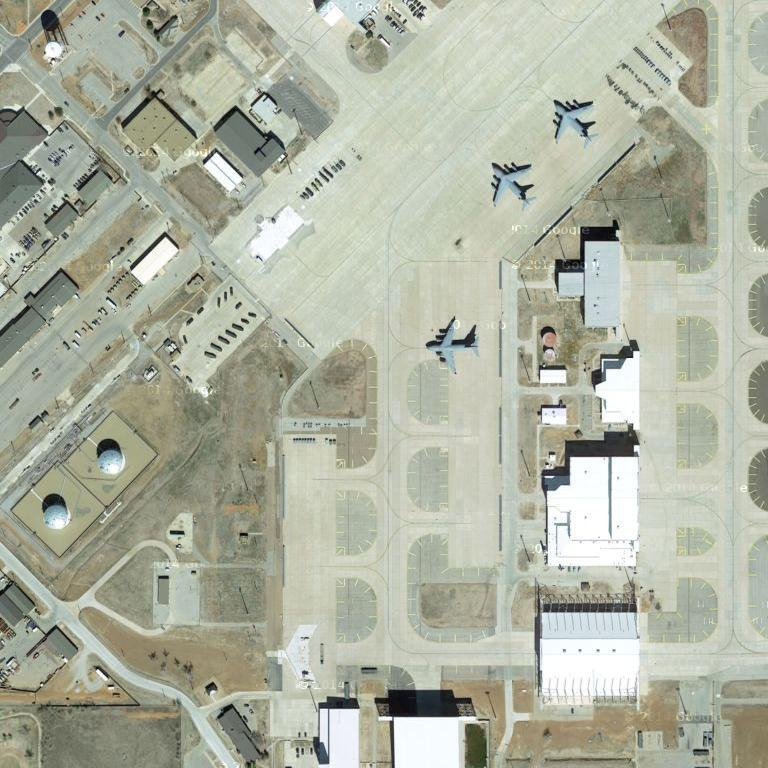C-17: (421, 315, 485, 376), (487, 158, 543, 213), (548, 98, 603, 147)
